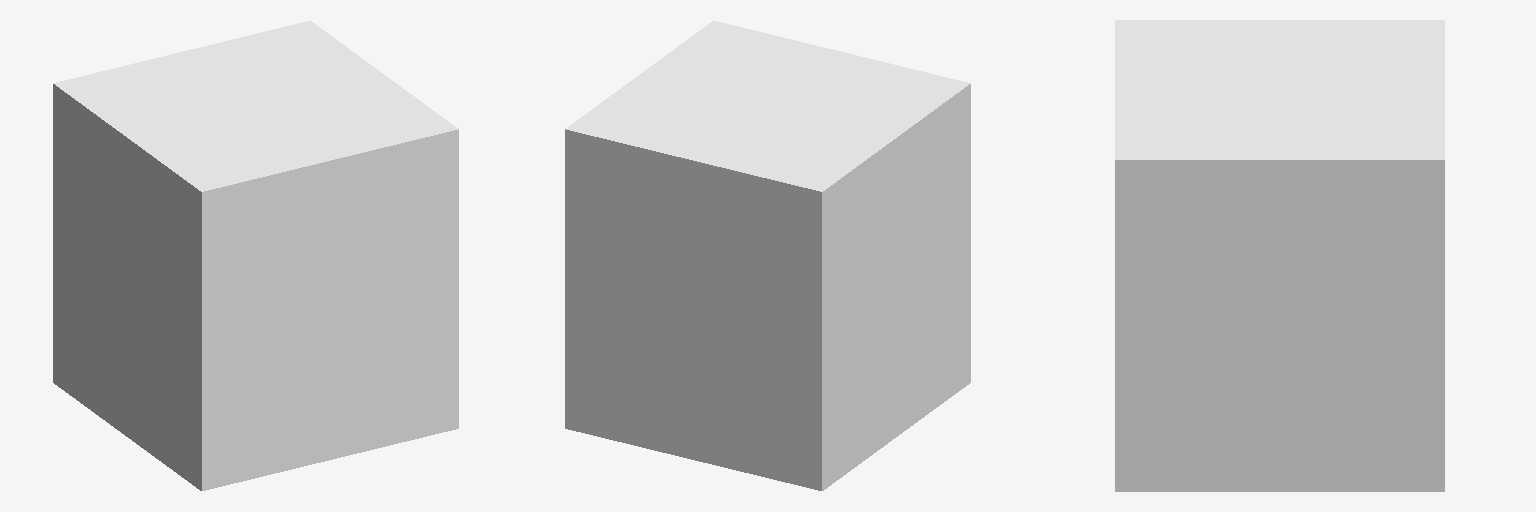
URDF robot description (tool9x9):
<?xml version="1.0" ?>
<robot name="tool9x9">
  <link name="tool9x9">
    <visual>
      <geometry>
        <mesh filename="tool9x9.stl" scale="1 1 1" />
      </geometry>
      <material name="white">
        <color rgba="1 1 1 1"/>
      </material>
    </visual>
    <collision>
      <geometry>
        <mesh filename="tool9x9.stl" scale="1 1 1" />
      </geometry>
    </collision>
    <inertial>
      <mass value="0.001" />
      <inertia ixx="1" ixy="0" ixz="0" iyy="1" iyz="0" izz="1" />
    </inertial>
  </link>
</robot>

--- What the picture shows (computed from the rendered views, not written in the file) ---
3 views of the same robot in one strip: view 1: azimuth 30°, elevation 25°; view 2: azimuth 150°, elevation 25°; view 3: azimuth 270°, elevation 25° (orthographic).
Robot: tool9x9 — 1 links, 0 joints (none); root link tool9x9; default pose: every joint at zero.
Visible links, largest first — view 1: tool9x9; view 2: tool9x9; view 3: tool9x9.
Link boxes in pixels (bbox=[...]): tool9x9: bbox=[53, 21, 458, 490]; tool9x9: bbox=[565, 21, 970, 490]; tool9x9: bbox=[1115, 20, 1444, 491].
Size in the robot's own frame: 0.09 by 0.09 by 0.1 metres.
Meshes: 1 distinct files referenced, 1 mesh visuals loaded (1 binary STL).